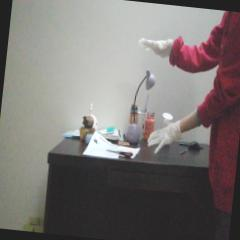gloved: (146, 118, 180, 157), (137, 35, 172, 59)
